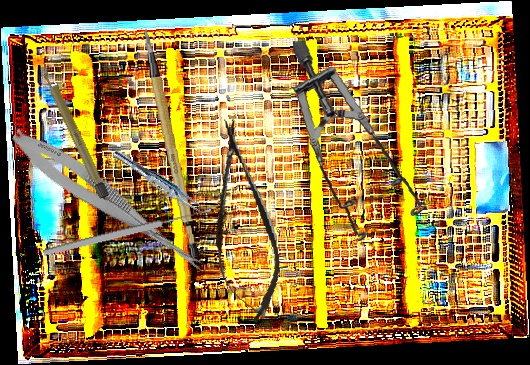Micro Scissor: (4, 121, 216, 280), (197, 114, 289, 327)
Scalpel Handle: (142, 22, 203, 261), (40, 65, 110, 200)
Speculum: (273, 40, 443, 248)
Surgical Spoon: (42, 206, 213, 258)
Tissue Forceps: (109, 147, 214, 220)
